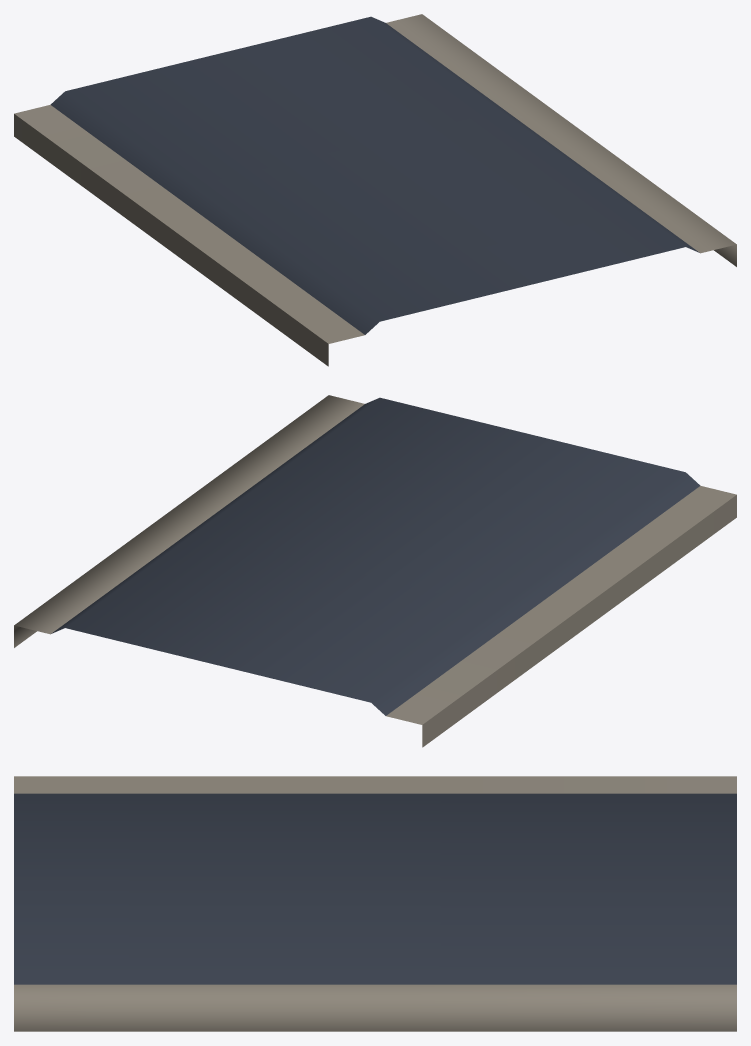
The model's file is RoadMid_1_E.fbx.
3 views of the same model, one above another, from view 1: azimuth 30°, elevation 25°; view 2: azimuth 150°, elevation 25°; view 3: azimuth 270°, elevation 25° (orthographic). The views are drawn at different scales.
Parts seen in each view (by area): view 1: RoadMid_1_E; view 2: RoadMid_1_E; view 3: RoadMid_1_E.
Part boxes in pixels (x1=…): RoadMid_1_E: x1=14, y1=14, x2=736, y2=366; RoadMid_1_E: x1=14, y1=395, x2=736, y2=747; RoadMid_1_E: x1=14, y1=776, x2=736, y2=1031.
Bounding box in the file's own units: 299 × 22.96 × 400.
